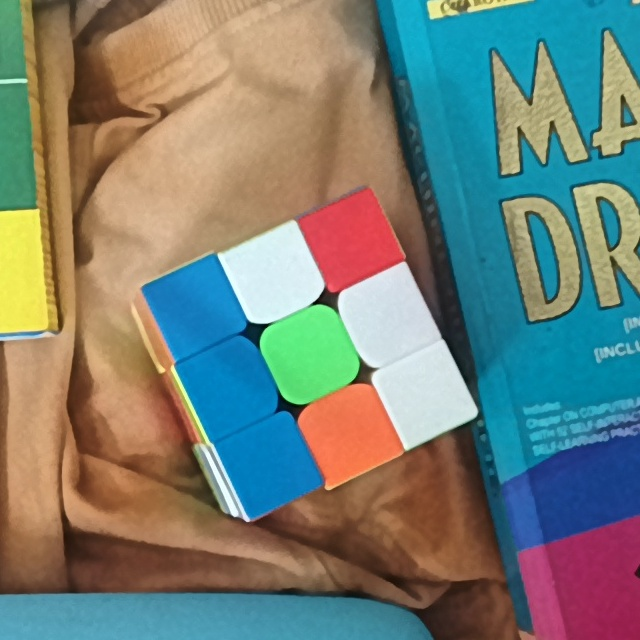tile: (197, 354, 261, 415), (275, 325, 343, 382), (321, 400, 384, 461), (318, 211, 382, 270), (165, 278, 226, 339), (239, 435, 299, 497), (243, 246, 305, 305), (358, 287, 417, 348), (400, 361, 454, 424)
